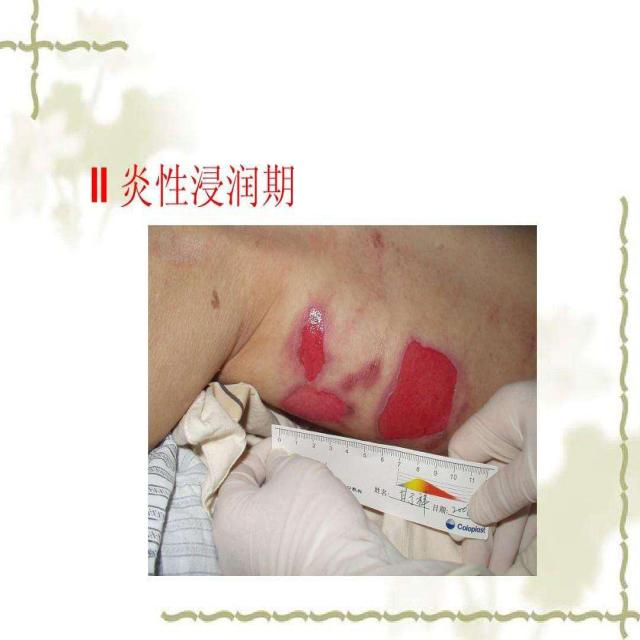stage-1: (339, 355, 382, 393)
stage-2: (378, 340, 458, 439), (280, 385, 349, 423), (299, 307, 325, 382)
